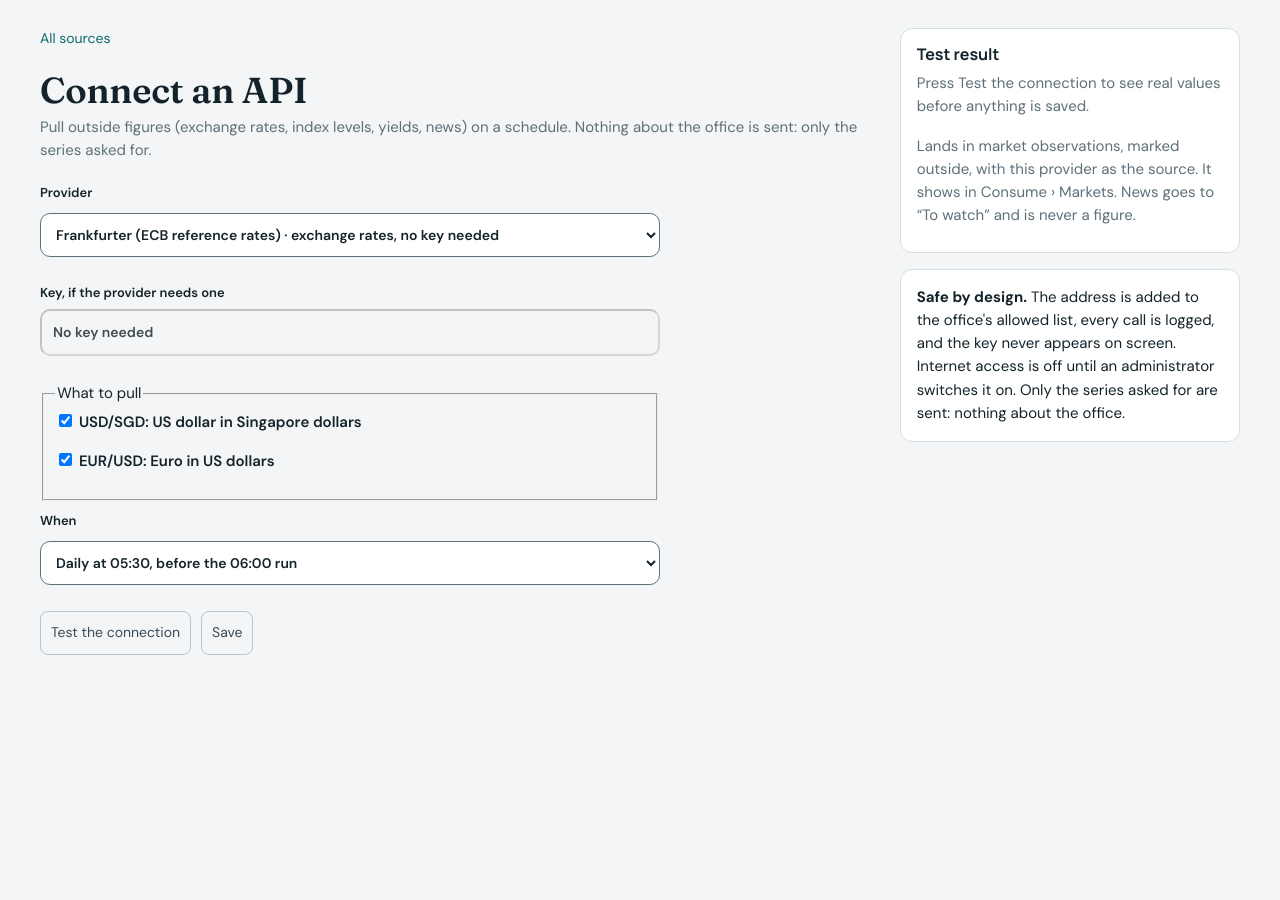
Scenario: a failed test says why
The image size is (1280, 900).
What coordinates should you click on to do the following:
click the button "Test the connection"
I would click on:
 (116, 633)
Its box is 40,611 -> 191,655.
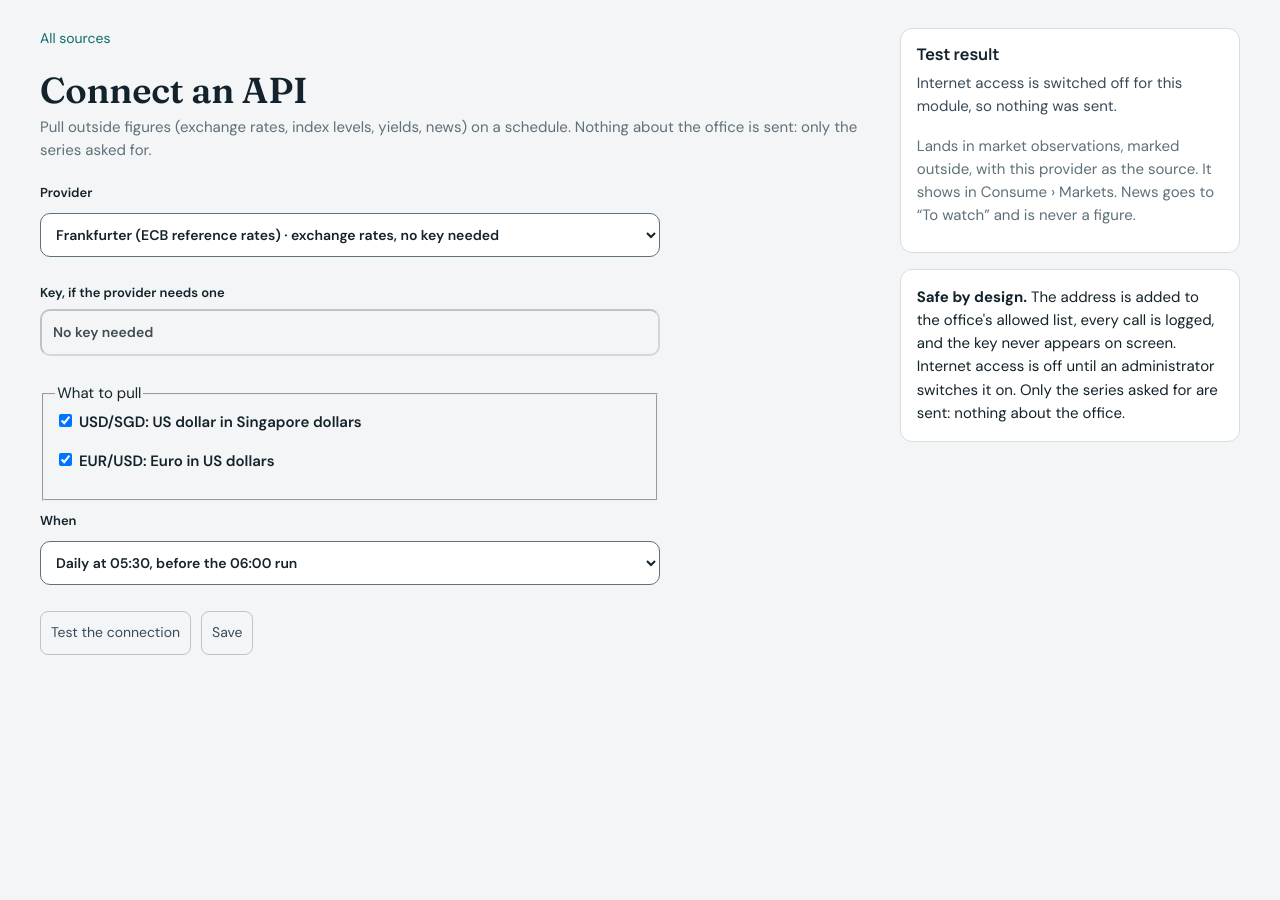
expect the text "Internet access is switched off for this module, so nothing was sent." is shown: met, box 917,72 -> 1223,119
